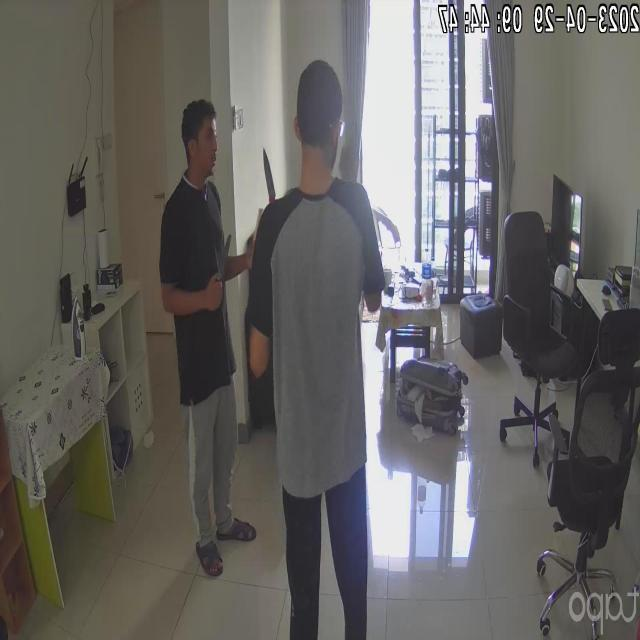Knife: (211, 230, 242, 294), (254, 138, 282, 202)
